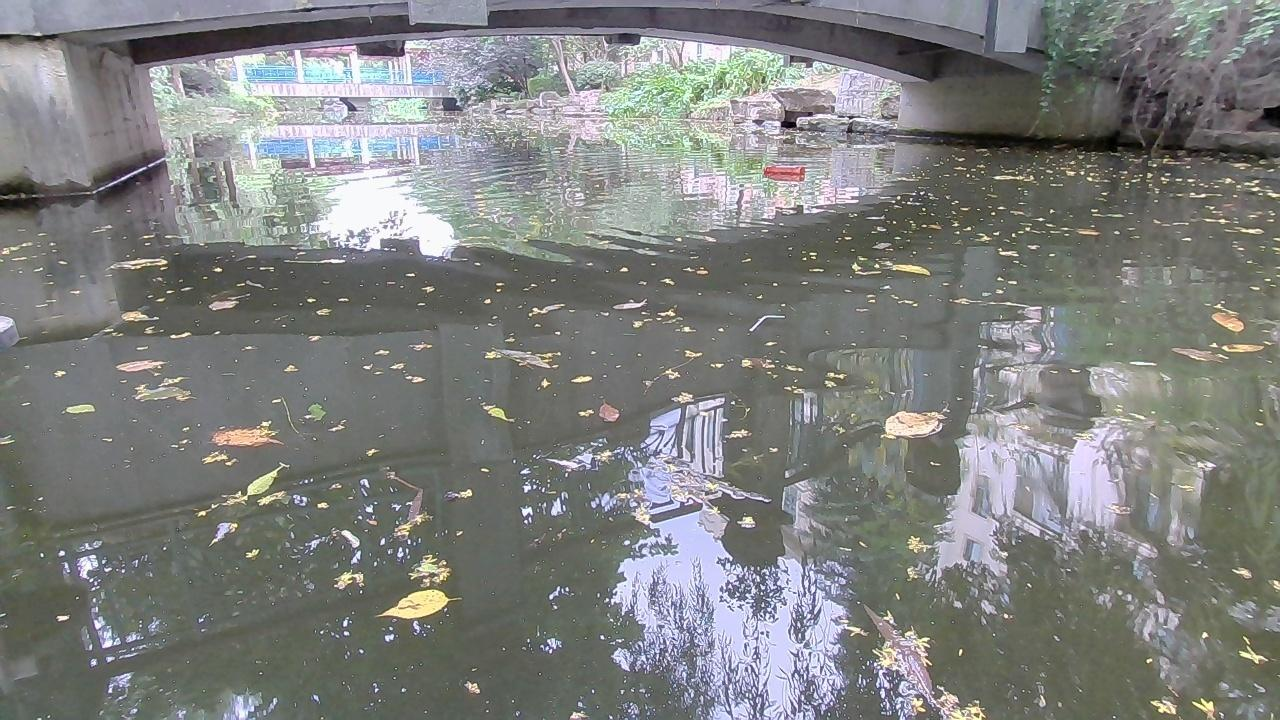bottle: (757, 163, 806, 179)
